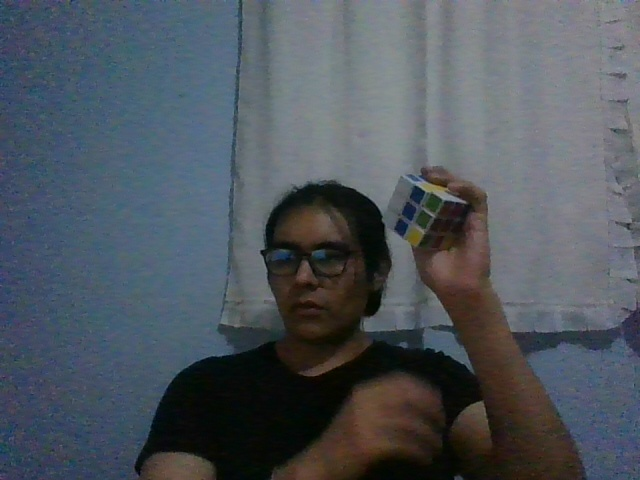rubik: (380, 173, 472, 250)
